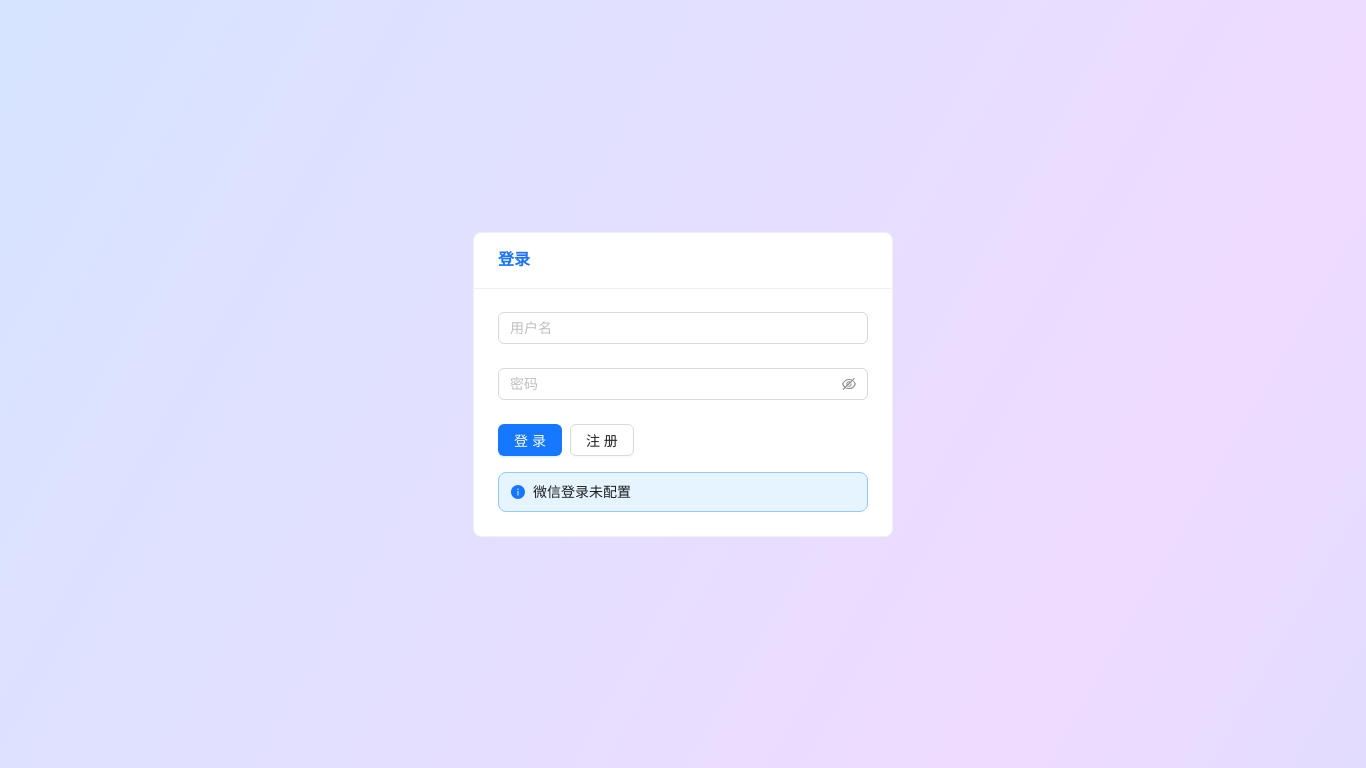
Test: portal login › opens the workbench after a successful login
In the field with test id "platform/login/username": (683, 328) [498, 312, 868, 344], type "admin"
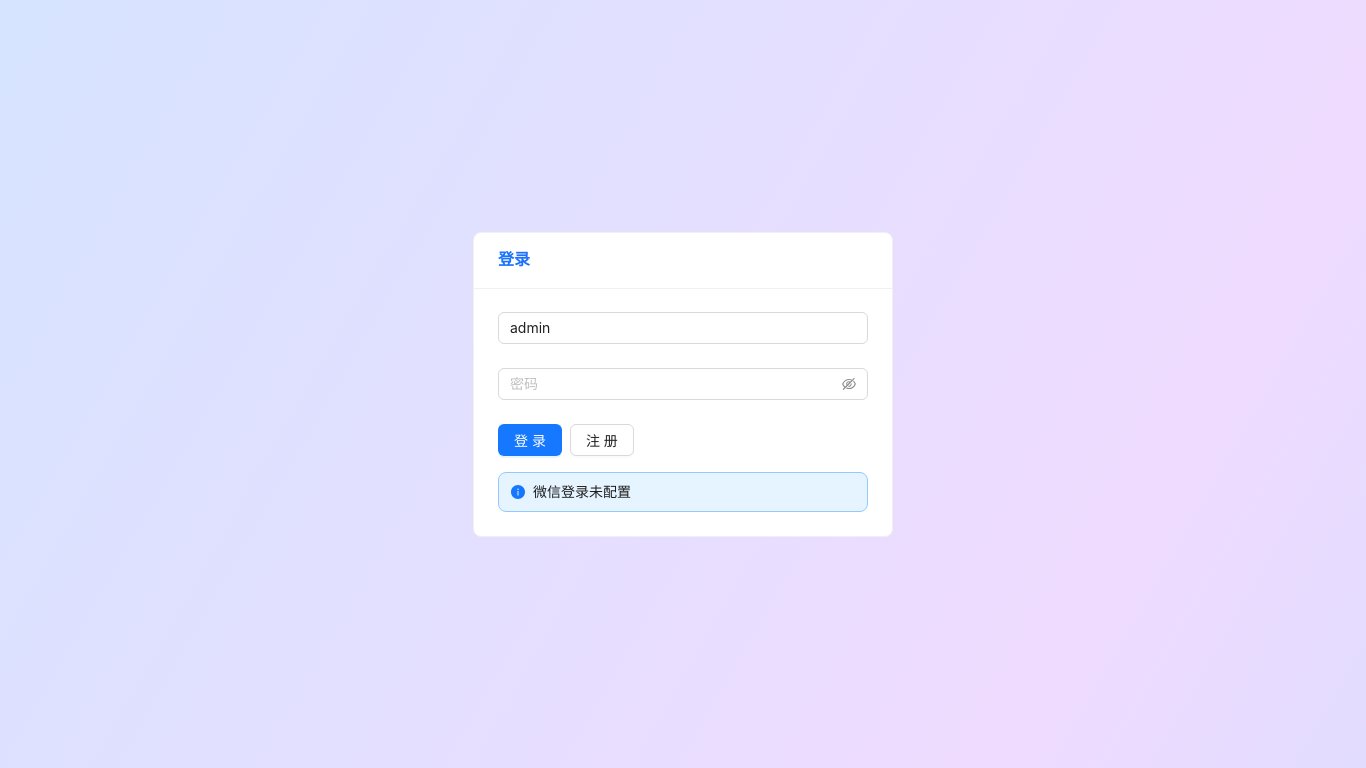
In the password field with test id "platform/login/password": (674, 384) [510, 372, 838, 394], type "secret"
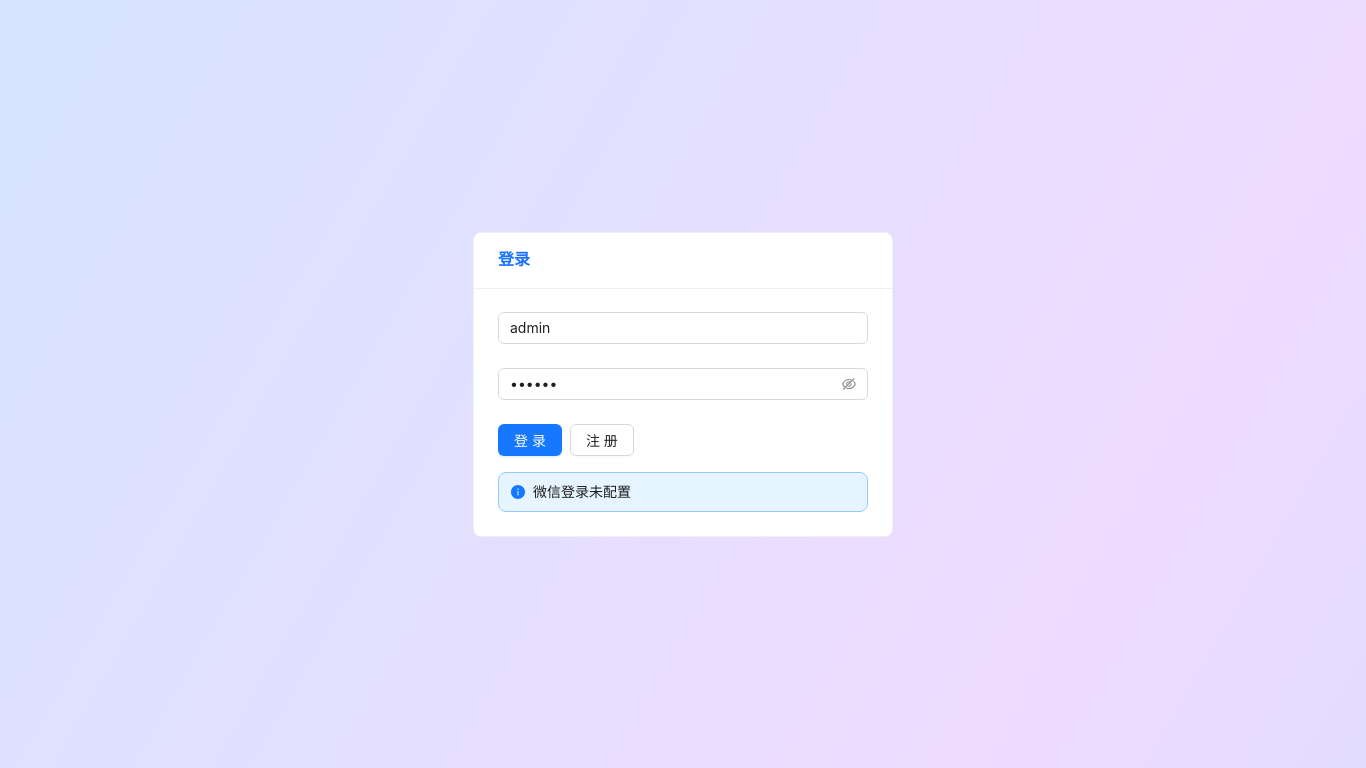
Click the button with test id "platform/login/submit": (530, 440) [498, 424, 562, 456]
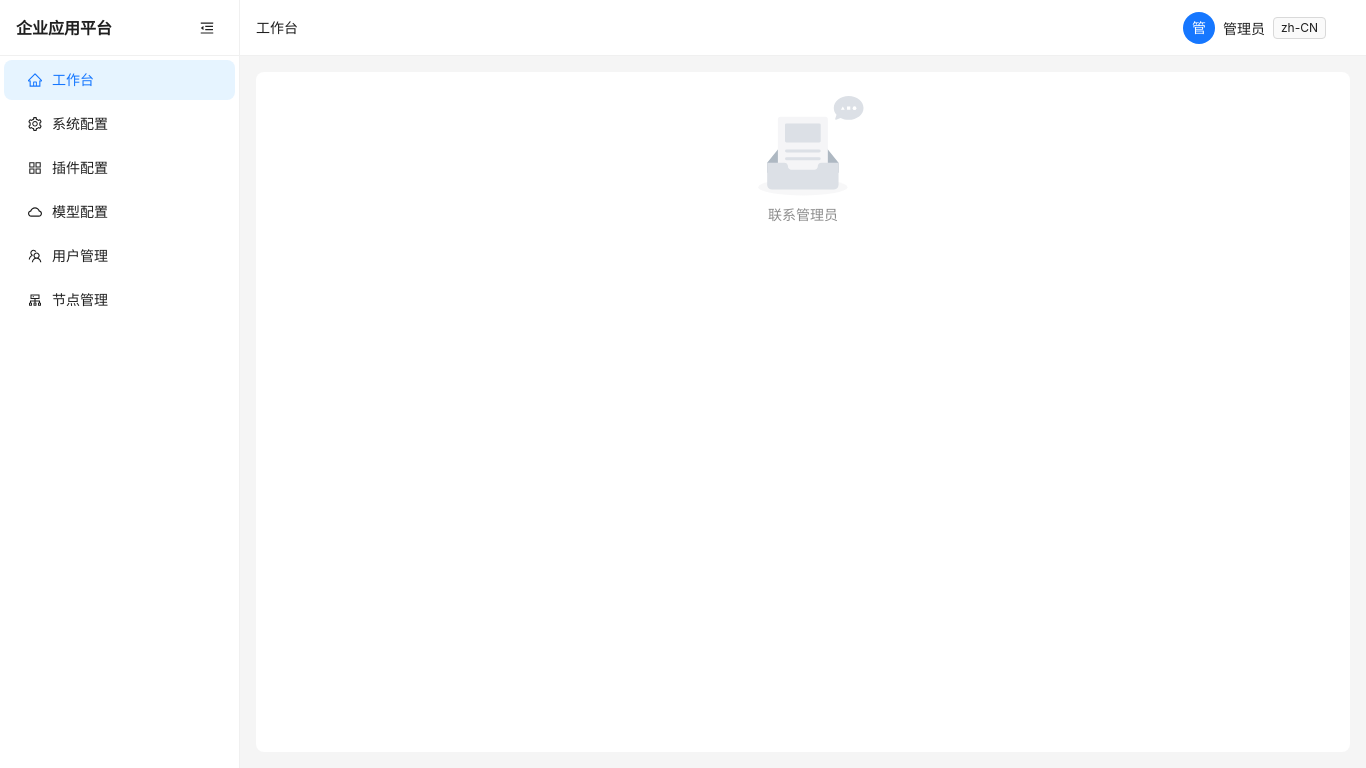
Check: the text with test id "platform/shell/user" reads "管理员", box [1223, 20, 1265, 36]
